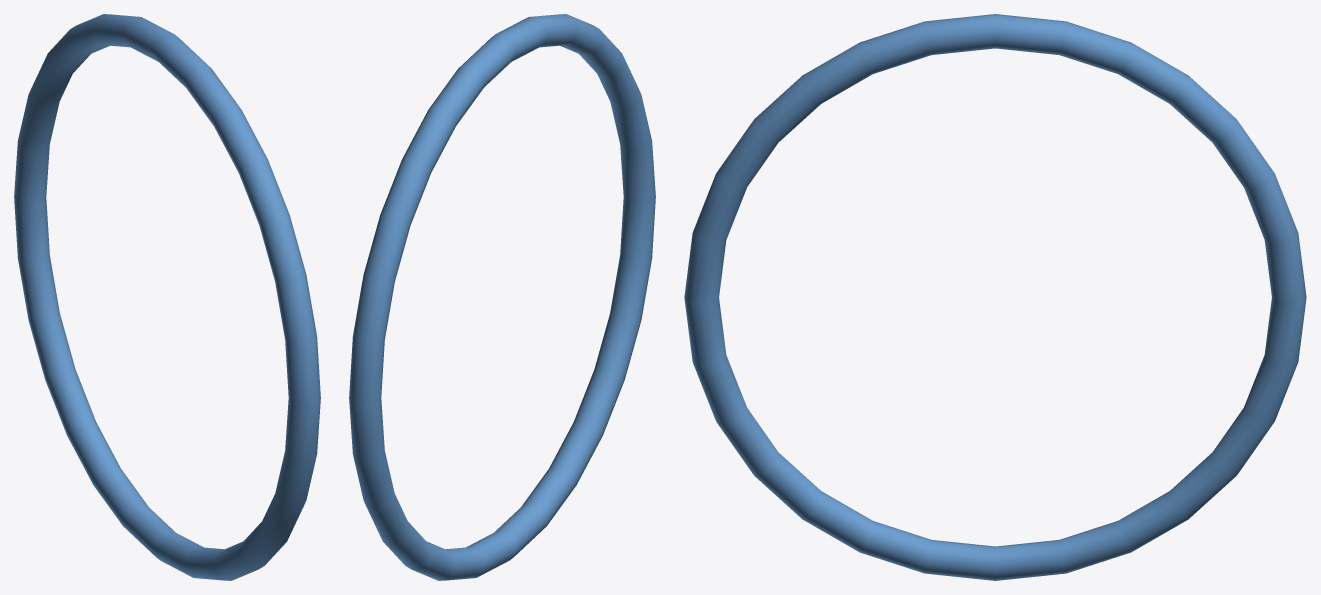
The model's file is loop.obj.
3 views of the same model, side by side, from view 1: azimuth 30°, elevation 25°; view 2: azimuth 150°, elevation 25°; view 3: azimuth 270°, elevation 25° (orthographic). The views are drawn at different scales.
Visible parts, largest first — view 1: loop; view 2: loop; view 3: loop.
Part boxes in pixels (<box>): loop: <box>14,14,320,580</box>; loop: <box>349,14,655,580</box>; loop: <box>684,14,1306,580</box>.
Size of the model in its own units: 9.41 by 170 by 170.
